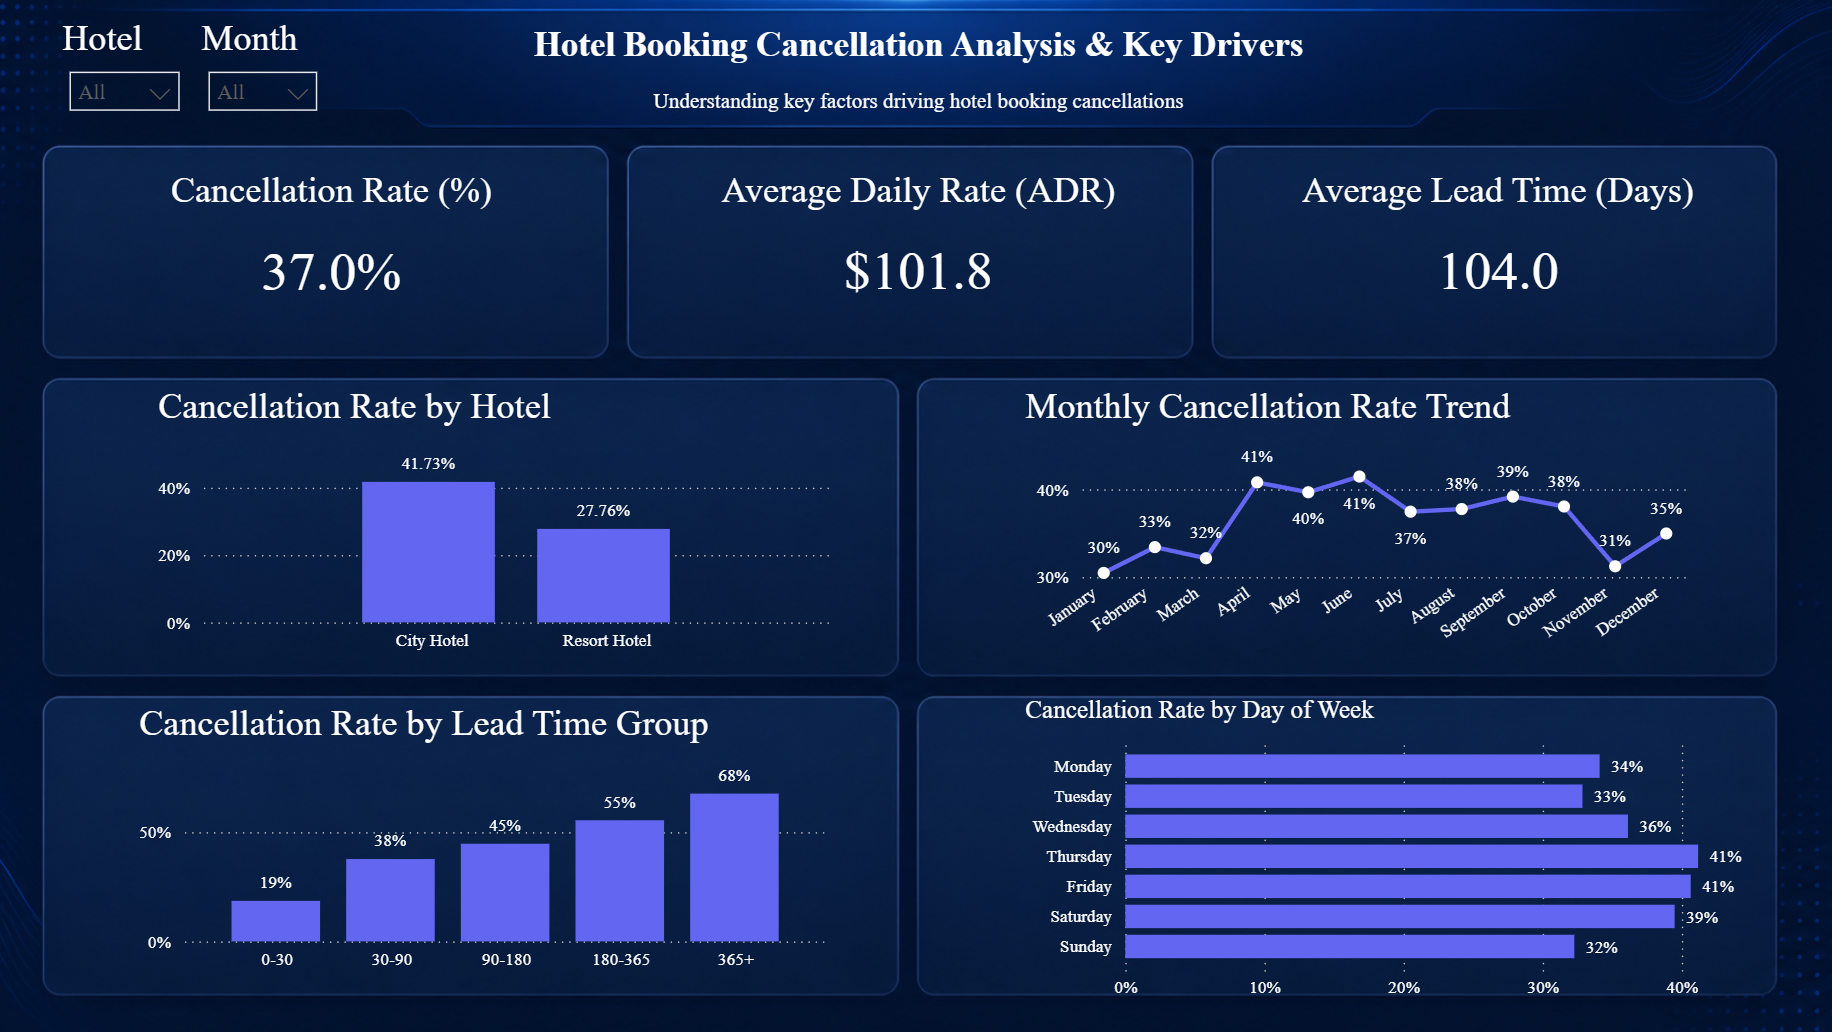

What the dashboard file says about the page in this screenshot:
{"tool":"powerbi","page":{"name":"Page 1","canvas":[1280,720],"ordinal":0},"visuals":[{"type":"card","title":"Cancellation Rate (%)","fields":{"Values":["hotel_cleaned_final.Cancellation Rate"]},"box":[122.1,119.3,235.2,109],"z":0},{"type":"card","title":"Average Daily Rate (ADR)","fields":{"Values":["hotel_cleaned_final.Avg ADR"]},"box":[502.8,119.3,283.4,108.3],"z":1000},{"type":"card","title":"Average Lead Time (Days)","fields":{"Values":["hotel_cleaned_final.Avg Lead Time"]},"box":[903.4,119.3,281.4,108.3],"z":2000},{"type":"columnChart","title":"Cancellation Rate by Hotel","fields":{"Category":["hotel_cleaned_final.hotel"],"Y":["Avg(hotel_cleaned_final.is_canceled)"]},"box":[115.2,268.3,476.6,191],"z":3000},{"type":"columnChart","title":"Cancellation Rate by Lead Time Group","fields":{"Category":["hotel_cleaned_final.lead_time_group"],"Y":["hotel_cleaned_final.Cancellation Rate"]},"box":[102.1,486.9,484.8,192.4],"z":4000},{"type":"lineChart","title":"Monthly Cancellation Rate Trend","fields":{"Y":["hotel_cleaned_final.Cancellation Rate"],"Category":["hotel_cleaned_final.month"]},"box":[713.1,268.3,466.2,191],"z":5000},{"type":"clusteredBarChart","title":"Cancellation Rate by Day of Week","fields":{"Category":["hotel_cleaned_final.day_of_week"],"Y":["hotel_cleaned_final.Cancellation Rate"]},"box":[713.1,482.1,518.6,216.6],"z":6000},{"type":"textbox","box":[322.1,14.5,644.8,72.4],"z":7000},{"type":"slicer","title":"Hotel","fields":{"Values":["hotel_cleaned_final.hotel"]},"box":[49,14.5,95.9,69.7],"z":8000},{"type":"slicer","title":"Month","fields":{"Values":["hotel_cleaned_final.month"]},"box":[144.8,14.5,95.2,69.7],"z":8001}]}

Visuals, with their boxes in screenshot pixels (x1, y1, x2, y2), scaled from the page's 1280x720 canvas onto the 1832x1032 screenshot:
"Cancellation Rate (%)" card: region(175, 171, 511, 327)
"Average Daily Rate (ADR)" card: region(720, 171, 1125, 326)
"Average Lead Time (Days)" card: region(1293, 171, 1696, 326)
"Cancellation Rate by Hotel" columnChart: region(165, 385, 847, 658)
"Cancellation Rate by Lead Time Group" columnChart: region(146, 698, 840, 974)
"Monthly Cancellation Rate Trend" lineChart: region(1021, 385, 1688, 658)
"Cancellation Rate by Day of Week" clusteredBarChart: region(1021, 691, 1763, 1001)
textbox: region(461, 21, 1384, 125)
"Hotel" slicer: region(70, 21, 207, 121)
"Month" slicer: region(207, 21, 344, 121)
